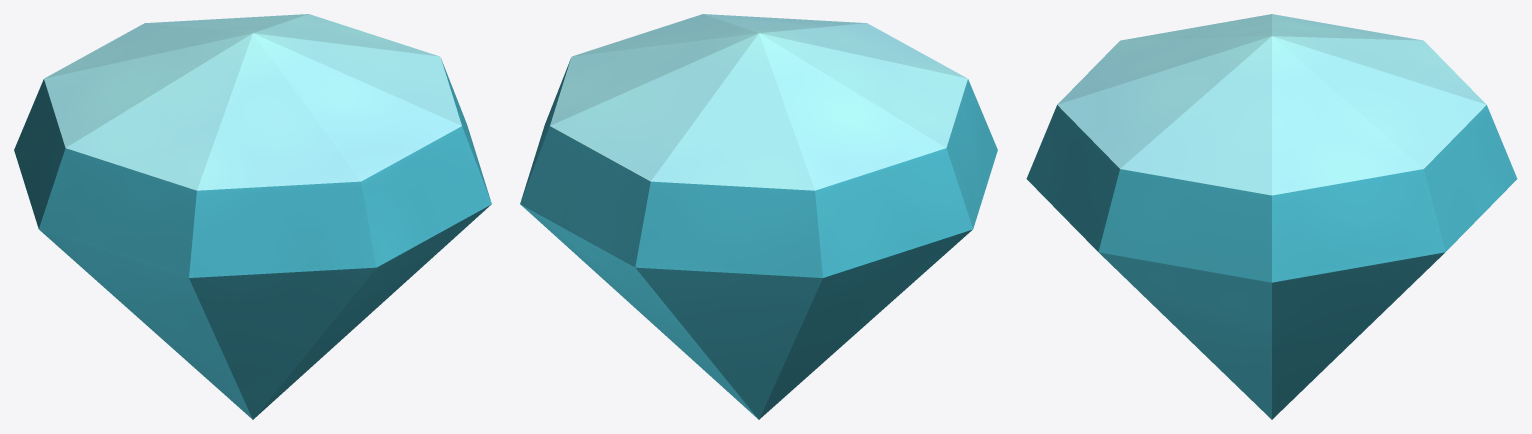
File: gem.glb
3 renders of one model, left to right at view 1: azimuth 30°, elevation 25°; view 2: azimuth 150°, elevation 25°; view 3: azimuth 270°, elevation 25°, orthographic.
Parts seen in each view (by area): view 1: SM_Gem; view 2: SM_Gem; view 3: SM_Gem.
Boxes of the visible parts, <box> form: SM_Gem: <box>14,14,491,419</box>; SM_Gem: <box>520,14,997,419</box>; SM_Gem: <box>1026,14,1517,419</box>.
Bounding box in the file's own units: 0.24 × 0.207 × 0.24.
Materials: 2 (2 with a texture image).
